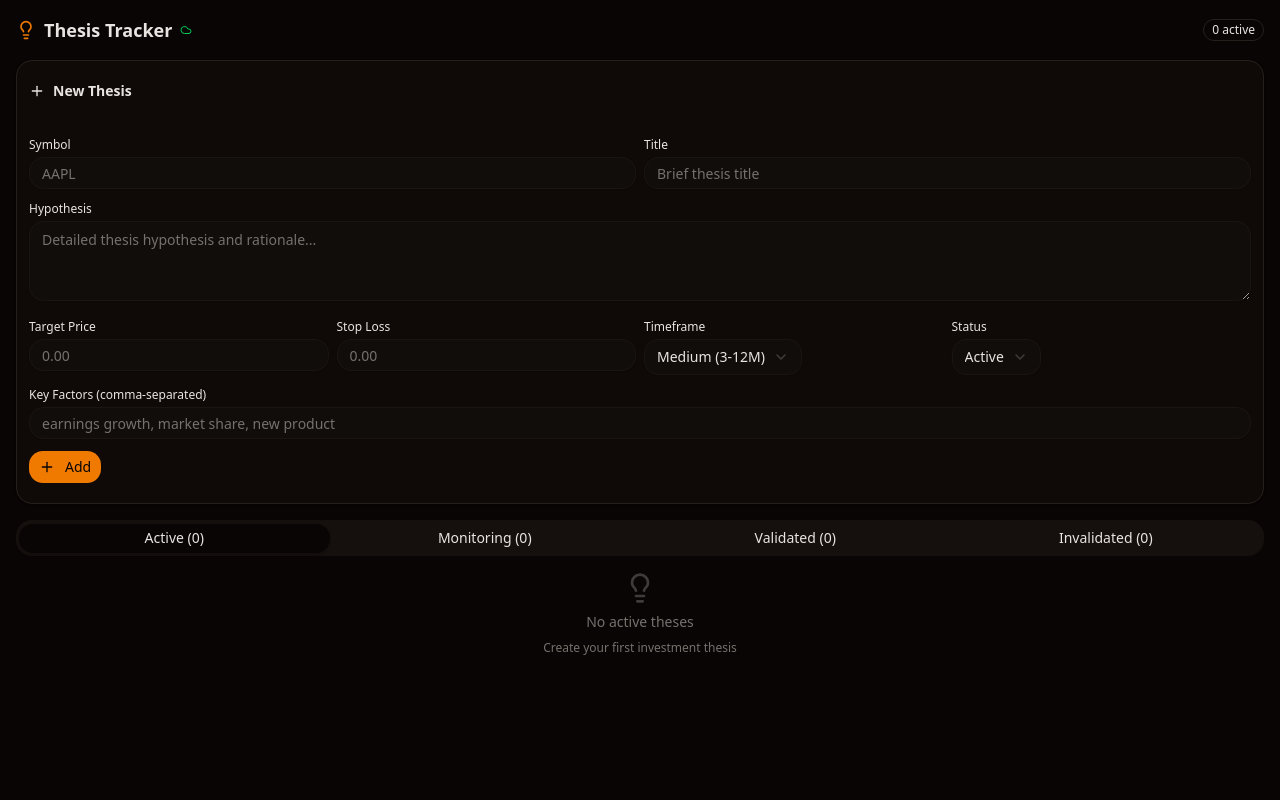
ThesisTracker › Timeframe Selection › can select long timeframe
Click the first combobox (Timeframe)
Click the dropdown labelled "Medium (3-12M)": point(723, 357) [644,339,802,375]
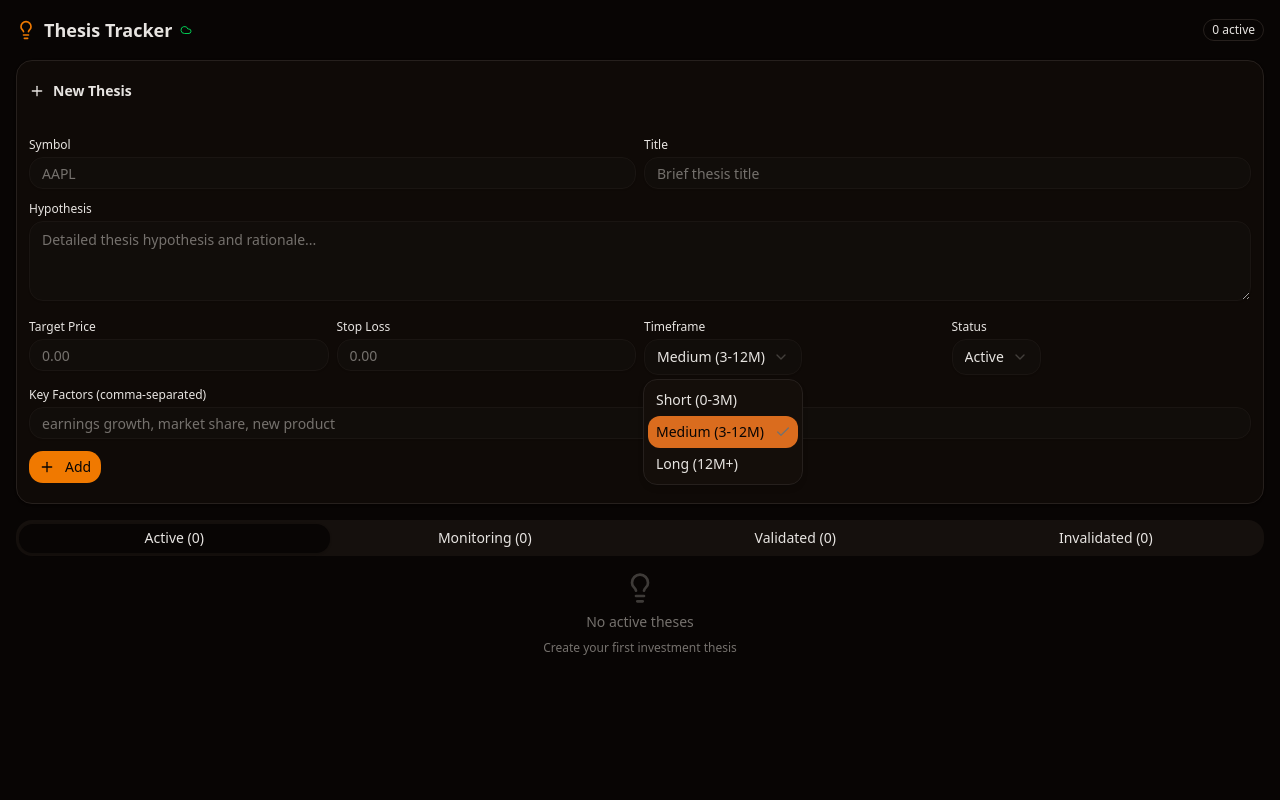
Select long option
Click the option "Long (12M+)": point(697, 464) [656,454,738,473]
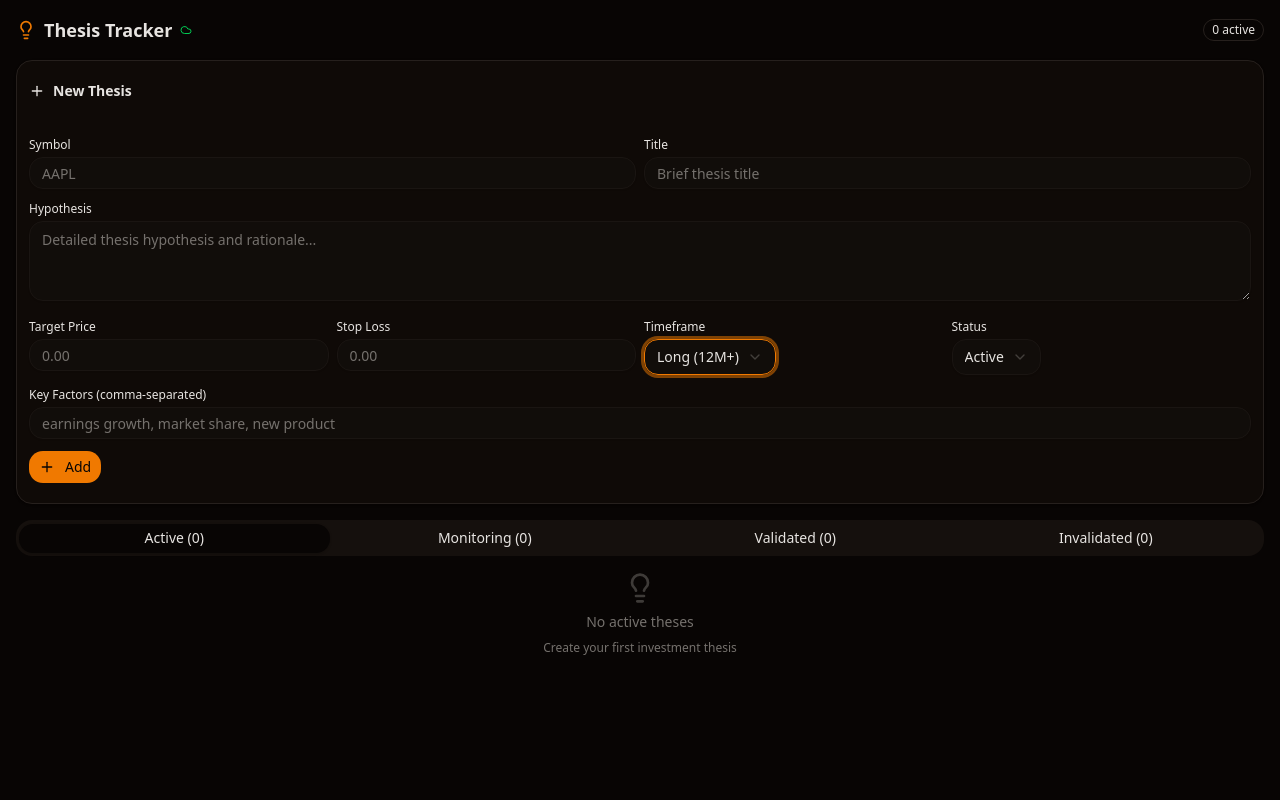
Expected: the dropdown labelled "Long (12M+)" is shown, [644,339,776,375]
